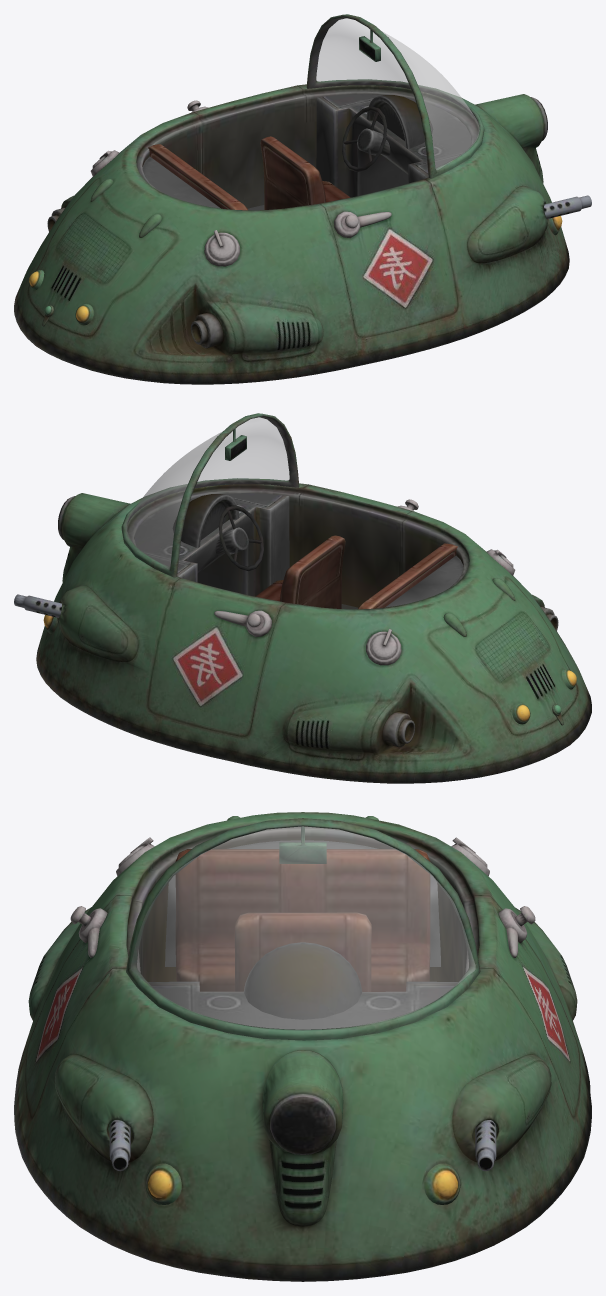
Rendered from pubg_dragon_ball_car.glb.
3 views of the same model, one above another, from view 1: azimuth 30°, elevation 25°; view 2: azimuth 150°, elevation 25°; view 3: azimuth 270°, elevation 25° (orthographic). The views are drawn at different scales.
Parts seen in each view (by area): view 1: PUBG dragon ball; view 2: PUBG dragon ball; view 3: PUBG dragon ball.
Part boxes in pixels (x1,y1,x2,y2): PUBG dragon ball: (14,14,591,384); PUBG dragon ball: (14,413,591,783); PUBG dragon ball: (14,812,591,1281).
Size of the model in its own units: 2.02 by 0.909 by 1.4.
2 materials, 1 textured.
